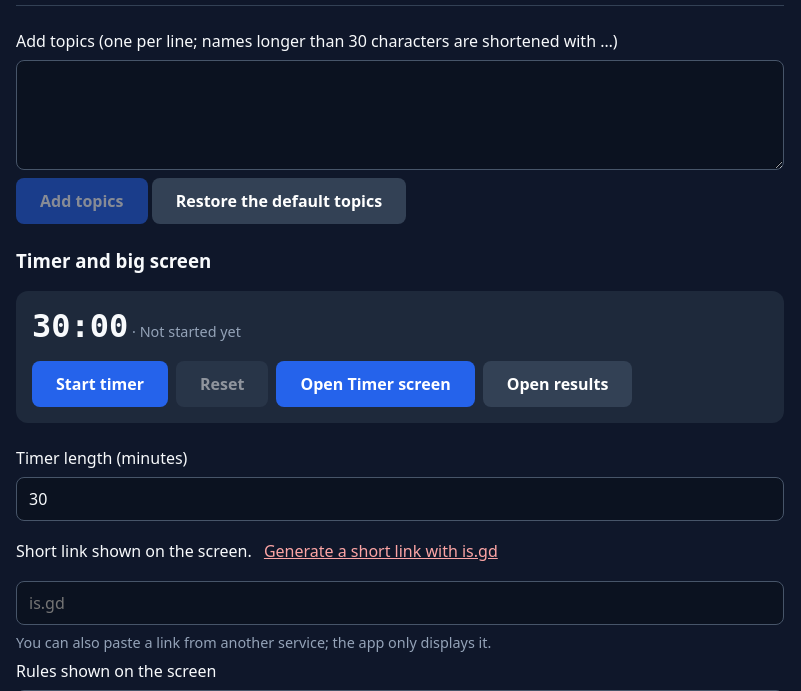
Test: Timer and screen settings (admin page) › starts the timer
(page scrolled)
Click the button "Start timer": (100, 384) [32,361,168,407]
(page scrolled)
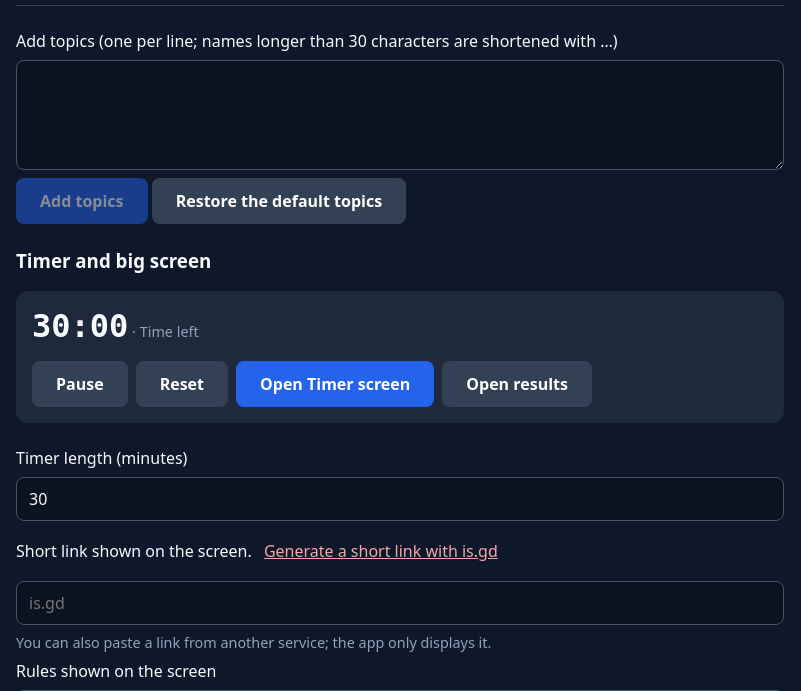
Expected: the number field labelled "Timer length (minutes)" is disabled, [16,477,784,521]
Expected: the button "Pause" is shown, [32,361,128,407]
